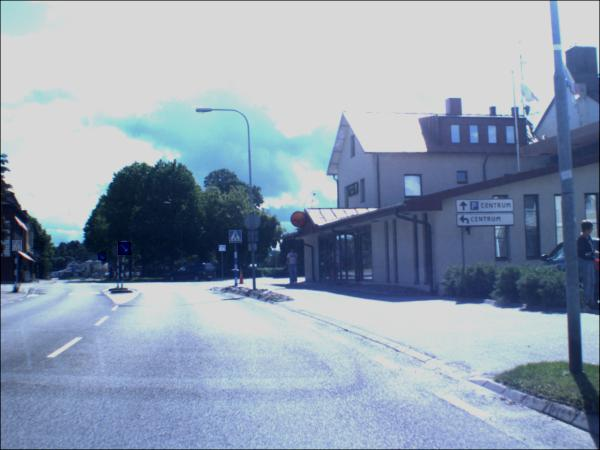PASS_RIGHT_SIDE: (119, 243, 133, 257), (99, 253, 108, 263)
PEDESTRIAN_CROSSING: (230, 231, 244, 245), (13, 241, 24, 253), (220, 246, 228, 253)
